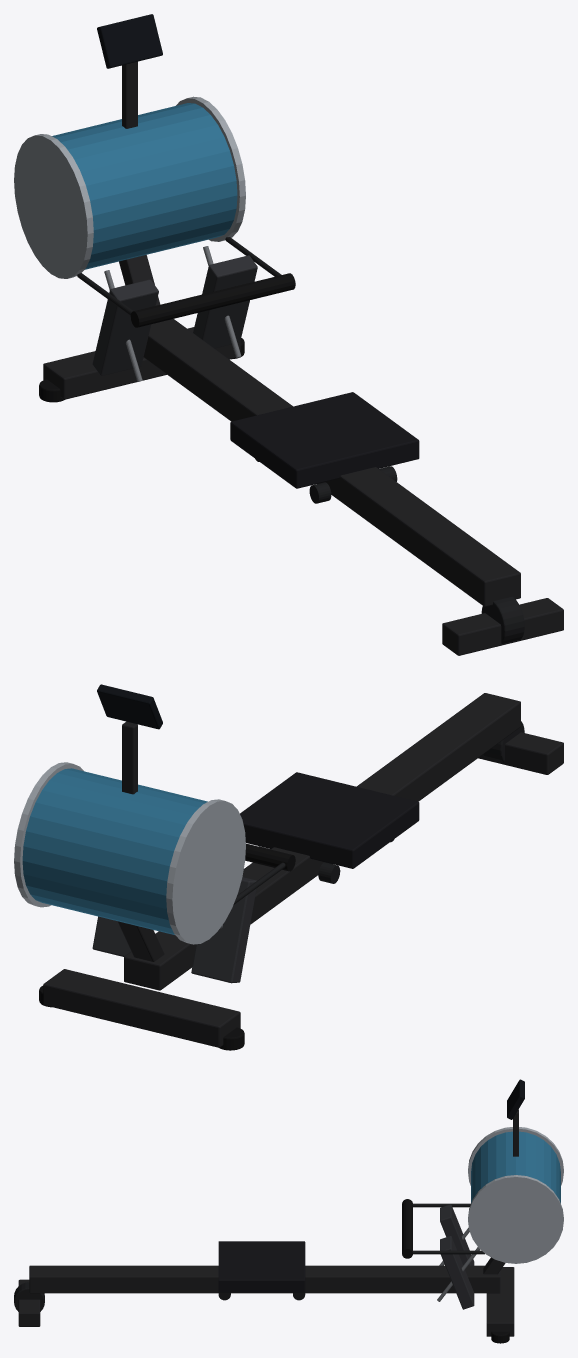
File: rower_budget.glb
The picture shows the model from 3 angles, top to bottom: view 1: azimuth 30°, elevation 25°; view 2: azimuth 150°, elevation 25°; view 3: azimuth 270°, elevation 25°; orthographic projection. The views are drawn at different scales.
Parts seen in each view (by area): view 1: Cylinder.003, Cube, Cube.006, Cylinder.004, Cube.004, Cube.002, Cube.005, Cube.001, Cylinder.014, Cube.008, Cylinder.005, Cylinder.002 (+2 smaller); view 2: Cylinder.003, Cube, Cube.006, Cylinder.004, Cube.001, Cube.004, Cube.002, Cube.008, Cylinder.005, Cube.007, Cube.003, Cube.005 (+2 smaller); view 3: Cube, Cylinder.005, Cube.006, Cylinder.003, Cube.001, Cube.005, Cube.004, Cylinder.004, Cube.002, Cylinder.014, Cube.008, Cylinder.002 (+1 smaller).
Part boxes in pixels (bbox=[...]): Cylinder.003: bbox=[52, 103, 237, 269]; Cube: bbox=[143, 319, 520, 606]; Cube.006: bbox=[230, 392, 419, 488]; Cylinder.004: bbox=[14, 134, 93, 278]; Cube.004: bbox=[92, 279, 158, 375]; Cube.002: bbox=[442, 598, 563, 655]; Cube.005: bbox=[193, 255, 257, 348]; Cube.001: bbox=[43, 327, 240, 399]; Cylinder.014: bbox=[130, 273, 295, 327]; Cube.008: bbox=[97, 14, 162, 68]; Cylinder.005: bbox=[176, 96, 245, 241]; Cylinder.002: bbox=[481, 596, 524, 643]; Cylinder.003: bbox=[22, 768, 207, 934]; Cube: bbox=[124, 693, 520, 990]; Cube.006: bbox=[240, 772, 419, 868]; Cylinder.004: bbox=[166, 799, 245, 944]; Cube.001: bbox=[43, 969, 240, 1047]; Cube.004: bbox=[191, 877, 256, 983]; Cube.002: bbox=[478, 732, 563, 774]; Cube.008: bbox=[97, 684, 162, 729]; Cylinder.005: bbox=[14, 762, 83, 907]; Cube.007: bbox=[122, 721, 137, 794]; Cube.003: bbox=[117, 921, 164, 961]; Cube.005: bbox=[92, 916, 131, 956]; Cube: bbox=[29, 1265, 500, 1293]; Cylinder.005: bbox=[468, 1175, 563, 1263]; Cube.006: bbox=[218, 1241, 305, 1292]; Cylinder.003: bbox=[471, 1131, 560, 1203]; Cube.001: bbox=[486, 1267, 514, 1336]; Cube.005: bbox=[440, 1236, 474, 1309]; Cube.004: bbox=[440, 1204, 474, 1265]; Cylinder.004: bbox=[468, 1127, 563, 1185]; Cube.002: bbox=[18, 1279, 40, 1326]; Cylinder.014: bbox=[402, 1199, 412, 1258]; Cube.008: bbox=[507, 1079, 524, 1119]; Cylinder.002: bbox=[14, 1282, 44, 1311].
Bounding box in the file's own units: 0.49 × 0.8031 × 1.77.
